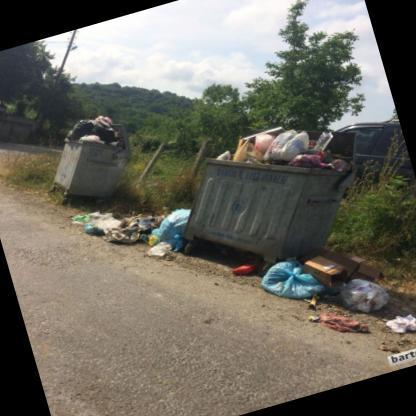Garbage: (271, 230, 415, 367), (259, 235, 403, 343), (233, 104, 354, 192), (79, 184, 188, 265), (70, 191, 166, 257), (64, 102, 130, 156), (236, 258, 264, 280)
